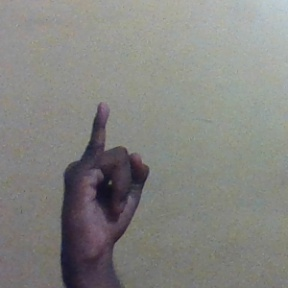I: (57, 101, 152, 242)
